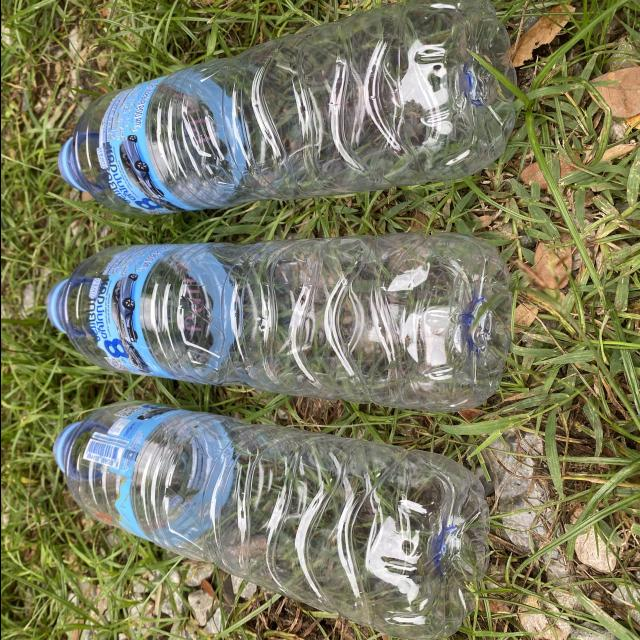plastik: (54, 402, 488, 639), (58, 0, 514, 214), (45, 232, 510, 411)
